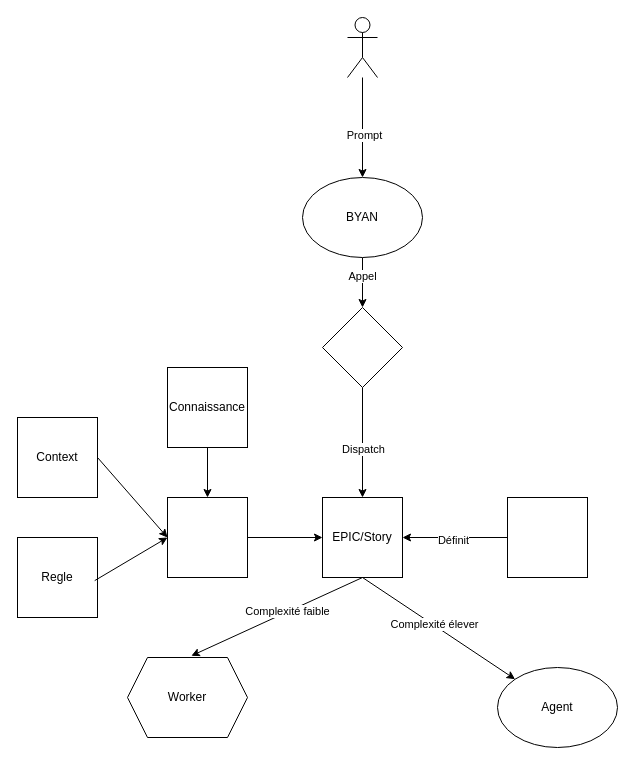
The diagram is 635 pixels wide and 765 high, and some of its shapes have lost their labels. Here are the shapes that lost their labels. From the top down, the centre of each, then its label:
pixel 362 47: Actor
pixel 362 347: Hermes
pixel 207 537: Mémoire
pixel 547 537: Complexité
